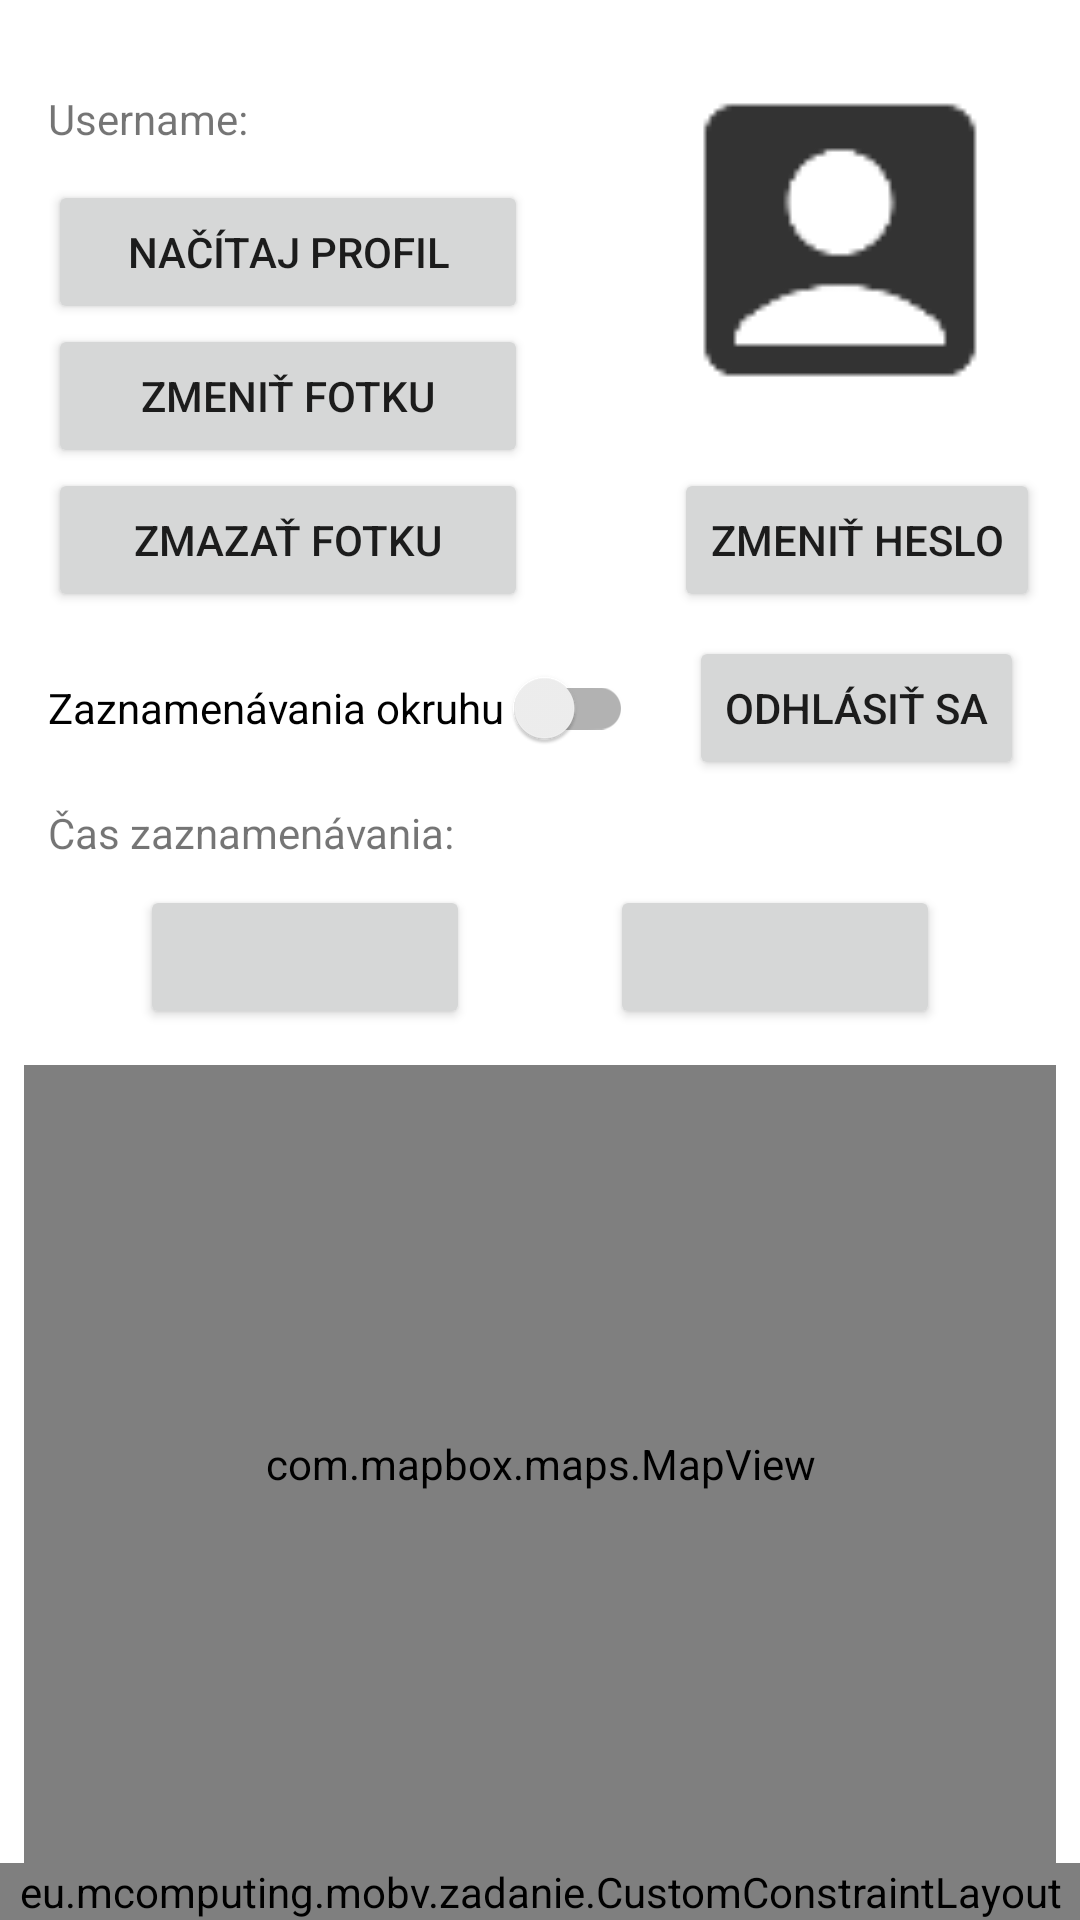

Locate icon controls on the screen. Image size 1080 × 1920, boxes as bbox(x1, y1, x2, y2).
account: bbox(703, 103, 977, 377)
